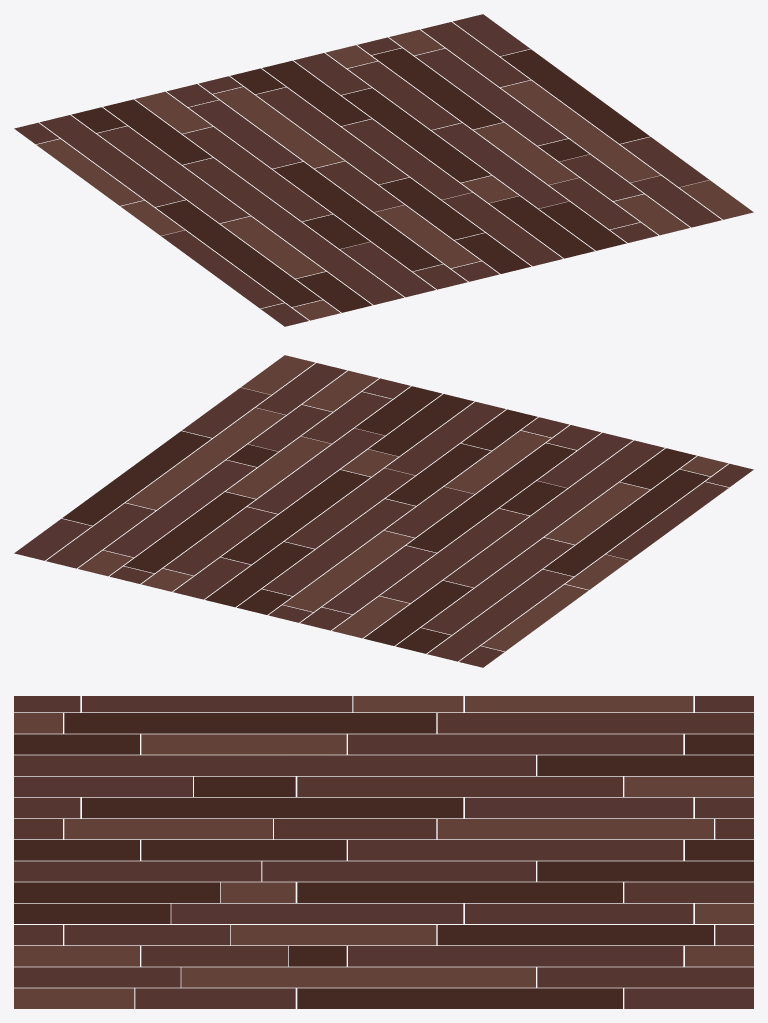
Rendered from floor_016.glb.
3 renders of one model, top to bottom at view 1: azimuth 30°, elevation 25°; view 2: azimuth 150°, elevation 25°; view 3: azimuth 270°, elevation 25°, orthographic. The views are drawn at different scales.
Visible parts, largest first — view 1: floor_016; view 2: floor_016; view 3: floor_016.
Boxes of the visible parts, box(x1,y1,x2,y2) form: floor_016: box(14, 14, 753, 326); floor_016: box(14, 355, 753, 667); floor_016: box(14, 696, 753, 1008).
Size of the model in its own units: 4 by 0 by 4.
1 material, 1 textured.
